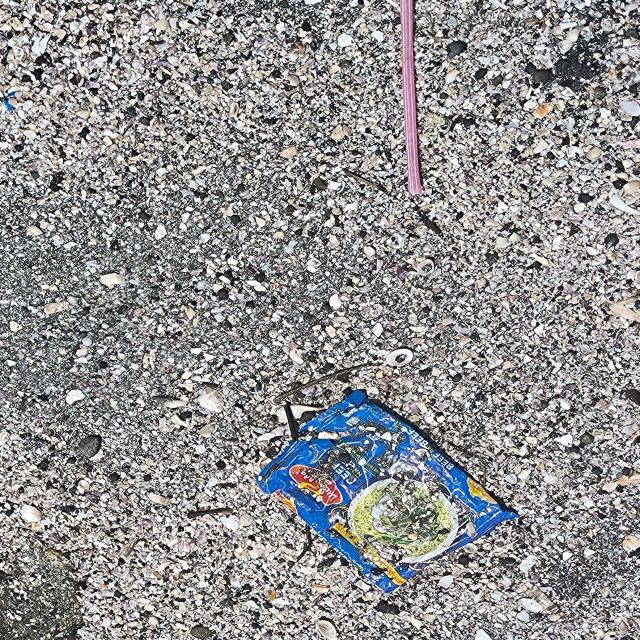plastic_waste: (257, 390, 521, 595), (400, 2, 429, 208)
